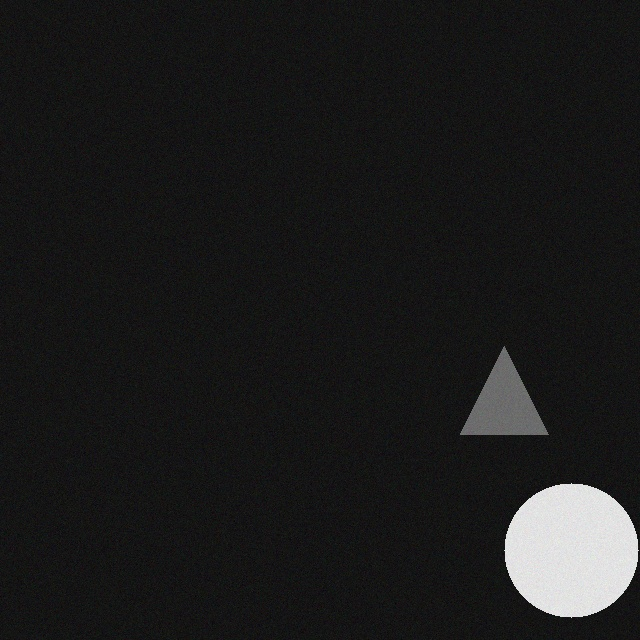circle: (496, 483, 630, 617)
triangle: (452, 346, 540, 434)
